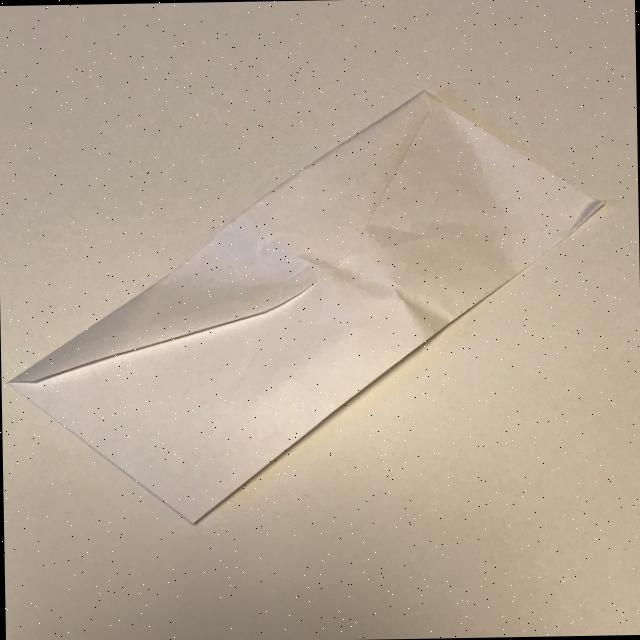paper: (1, 84, 610, 526)
